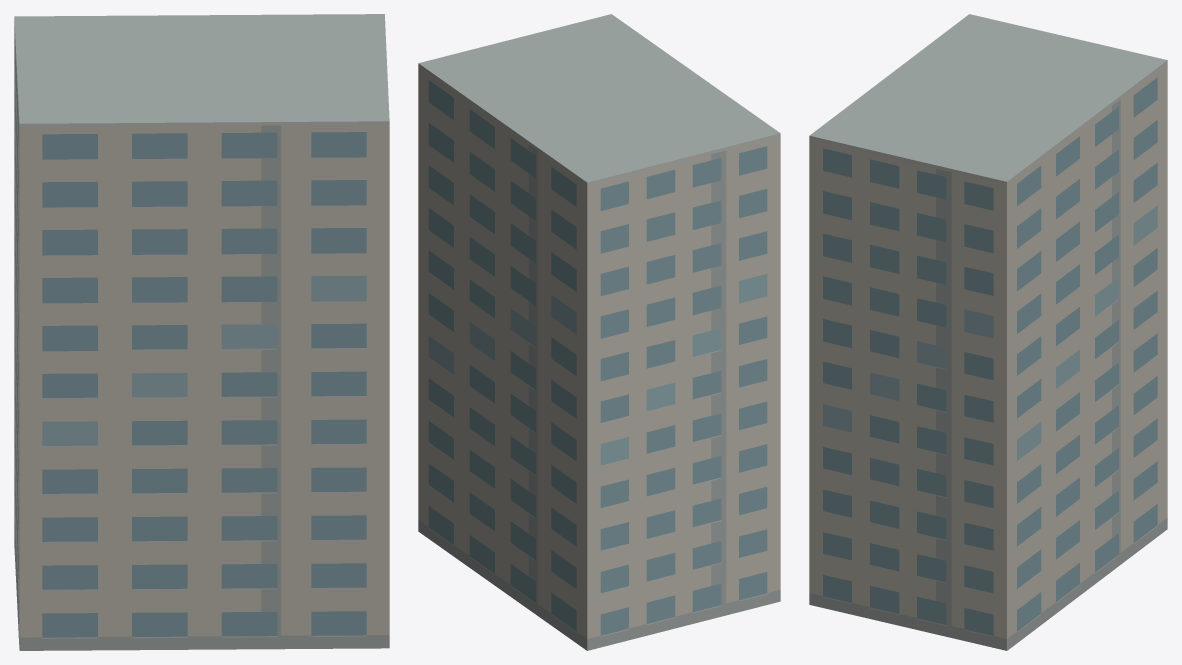
File: survey-upis-32876841.glb
The picture shows the model from 3 angles, left to right: view 1: azimuth 30°, elevation 25°; view 2: azimuth 150°, elevation 25°; view 3: azimuth 270°, elevation 25°; orthographic projection. The views are drawn at different scales.
Parts seen in each view (by area): view 1: survey-upis-32876841.tmp; view 2: survey-upis-32876841.tmp; view 3: survey-upis-32876841.tmp.
Boxes of the visible parts, x1,y1,x2,y2 form: survey-upis-32876841.tmp: [14, 14, 389, 650]; survey-upis-32876841.tmp: [418, 14, 780, 650]; survey-upis-32876841.tmp: [809, 14, 1167, 650].
Size of the model in its own units: 26.79 by 34.9 by 24.16.
